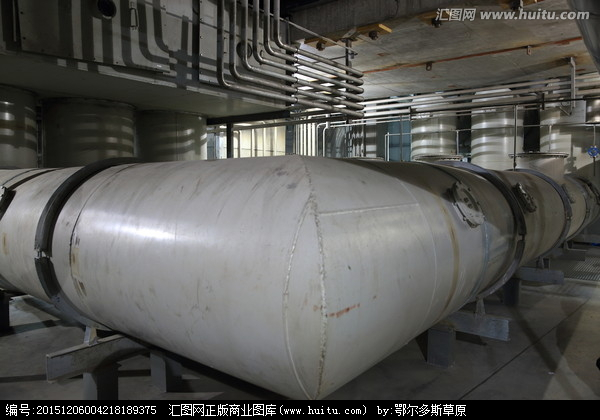oil: (334, 140, 547, 241)
